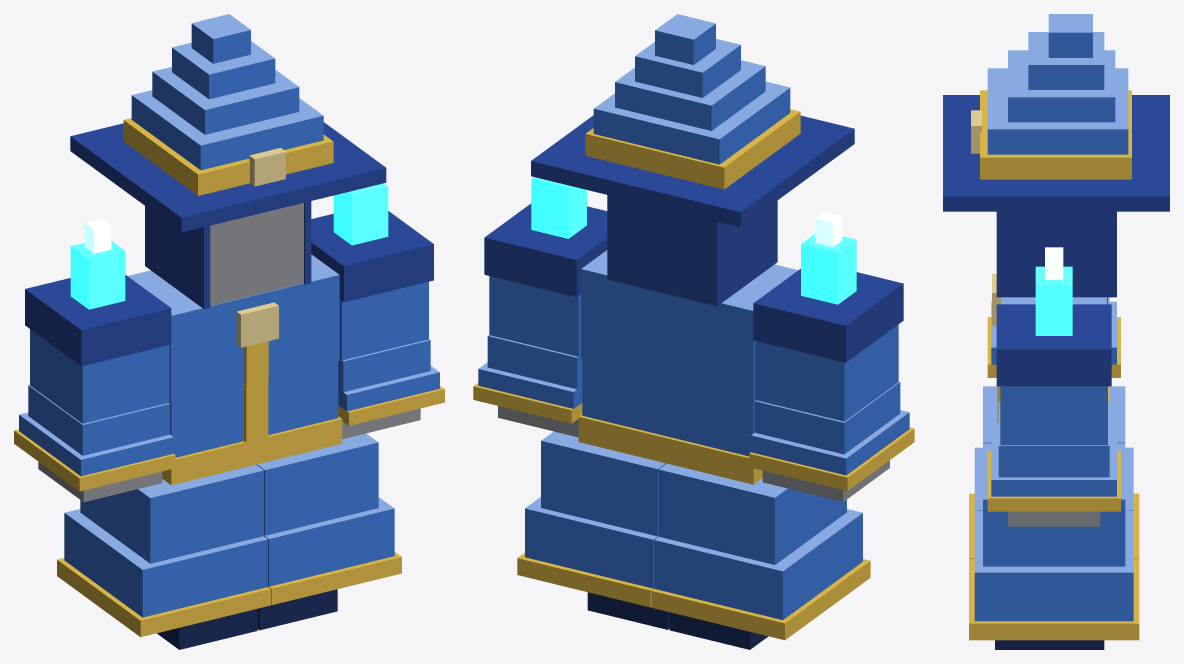
The model's file is arcanist_set.glb.
3 views of the same model, side by side, from view 1: azimuth 30°, elevation 25°; view 2: azimuth 150°, elevation 25°; view 3: azimuth 270°, elevation 25° (orthographic). The views are drawn at different scales.
Visible parts, largest first — view 1: armour_head_star_hat, armour_upper_arm_mantle_L, armour_chest_robe, armour_shin_skirt_hem_L, armour_upper_arm_mantle_R, armour_waist_sash, armour_thigh_skirt_L, armour_forearm_bell_cuff_L, armour_shin_skirt_hem_R, armour_thigh_skirt_R, avatar_head, armour_forearm_bell_cuff_R (+4 smaller); view 2: armour_head_star_hat, armour_upper_arm_mantle_L, armour_chest_robe, armour_shin_skirt_hem_L, armour_upper_arm_mantle_R, armour_waist_sash, armour_thigh_skirt_L, armour_forearm_bell_cuff_L, armour_shin_skirt_hem_R, armour_thigh_skirt_R, armour_forearm_bell_cuff_R, armour_foot_shoe_L (+3 smaller); view 3: armour_head_star_hat, armour_upper_arm_mantle_R, armour_shin_skirt_hem_R, armour_forearm_bell_cuff_R, armour_thigh_skirt_R, armour_shin_skirt_hem_L, armour_thigh_skirt_L, avatar_forearm_R, armour_forearm_bell_cuff_L, armour_foot_shoe_R, armour_chest_robe.
Part boxes in pixels (<box>): armour_head_star_hat: <box>70,14,386,309</box>; armour_upper_arm_mantle_L: <box>25,219,171,423</box>; armour_chest_robe: <box>128,254,339,401</box>; armour_shin_skirt_hem_L: <box>57,509,270,637</box>; armour_upper_arm_mantle_R: <box>311,183,433,360</box>; armour_waist_sash: <box>162,361,342,485</box>; armour_thigh_skirt_L: <box>80,465,263,563</box>; armour_forearm_bell_cuff_L: <box>14,385,175,491</box>; armour_shin_skirt_hem_R: <box>264,497,401,604</box>; armour_thigh_skirt_R: <box>256,433,378,535</box>; avatar_head: <box>210,203,303,305</box>; armour_forearm_bell_cuff_R: <box>338,339,444,425</box>; armour_head_star_hat: <box>531,14,854,306</box>; armour_upper_arm_mantle_L: <box>753,212,903,421</box>; armour_chest_robe: <box>581,250,797,398</box>; armour_shin_skirt_hem_L: <box>651,509,870,640</box>; armour_upper_arm_mantle_R: <box>484,177,607,356</box>; armour_waist_sash: <box>578,357,762,484</box>; armour_thigh_skirt_L: <box>658,463,846,564</box>; armour_forearm_bell_cuff_L: <box>749,382,914,490</box>; armour_shin_skirt_hem_R: <box>517,497,658,607</box>; armour_thigh_skirt_R: <box>541,431,666,536</box>; armour_forearm_bell_cuff_R: <box>473,335,582,423</box>; armour_foot_shoe_L: <box>669,612,767,649</box>; armour_head_star_hat: <box>943,14,1169,297</box>; armour_upper_arm_mantle_R: <box>996,247,1111,445</box>; armour_shin_skirt_hem_R: <box>969,510,1139,640</box>; armour_forearm_bell_cuff_R: <box>987,402,1120,511</box>; armour_thigh_skirt_R: <box>983,443,1125,566</box>; armour_shin_skirt_hem_L: <box>969,447,1139,558</box>; armour_thigh_skirt_L: <box>983,386,1125,443</box>; avatar_forearm_R: <box>1008,511,1100,526</box>; armour_forearm_bell_cuff_L: <box>987,297,1120,377</box>; armour_foot_shoe_R: <box>995,640,1104,649</box>; armour_chest_robe: <box>992,274,1106,326</box>.
Size of the model in its own units: 1.3 by 1.96 by 0.686.
